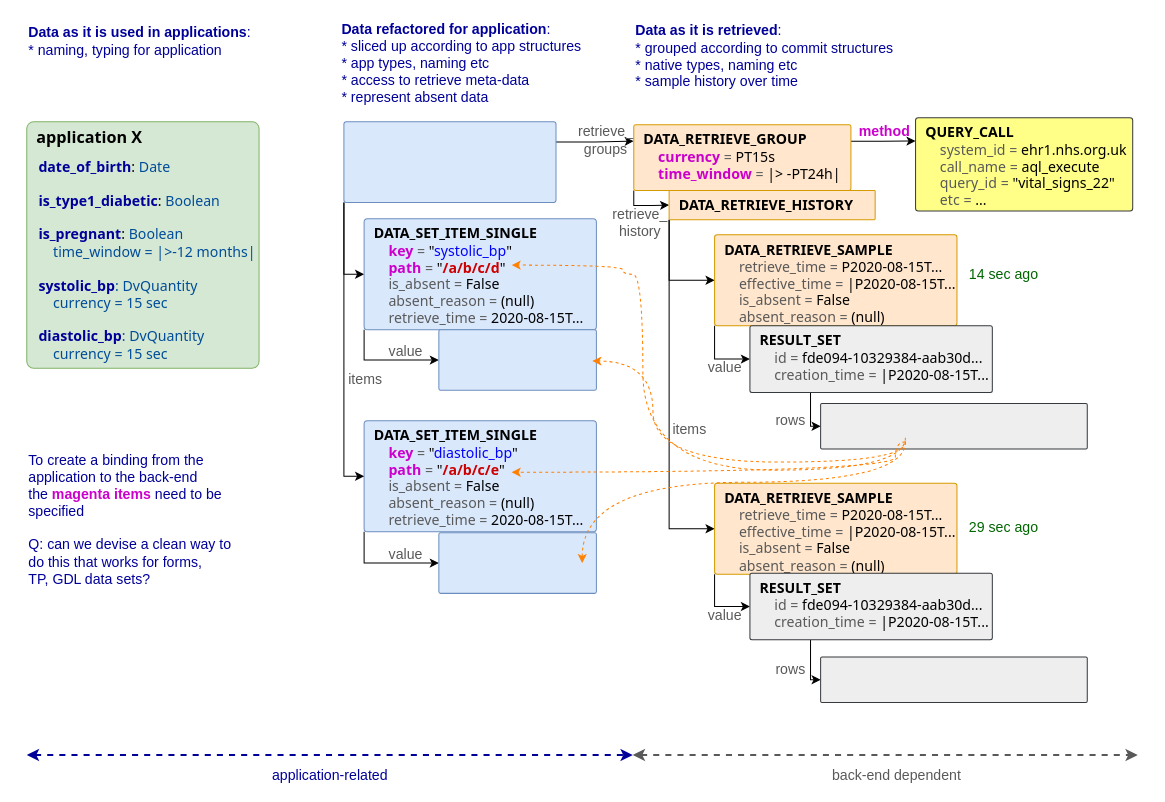
The diagram is 1165 pixels wide and 802 high, and some of its shapes have lost their labels. The shapes that lost their labels are listed below. From the top down, each one's centre as x and y in pixels, then its label:
point 449,162: DATA_SET subject_id = "1348596847" app_id = "TP"
point 517,359: DvQuantity magnitude = 140.0 units = "mm[Hg]"
point 953,425: RESULT_SET_ROW values = OBS containing 140.0, 90.0
point 517,562: DvQuantity magnitude = 90.0 units = "mm[Hg]"
point 953,679: RESULT_SET_ROW values = OBS containing 137.0, 84.0
